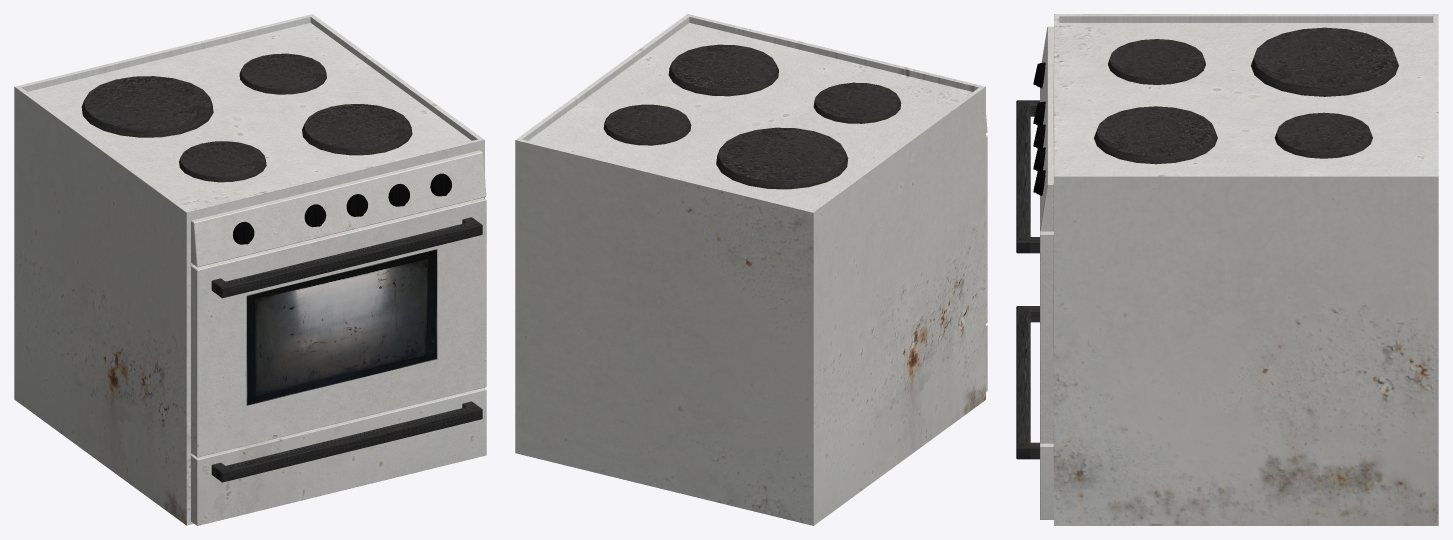
The model's file is fogao.fbx.
3 views of the same model, side by side, from view 1: azimuth 30°, elevation 25°; view 2: azimuth 150°, elevation 25°; view 3: azimuth 270°, elevation 25° (orthographic). The views are drawn at different scales.
Parts seen in each view (by area): view 1: superficie, polySurface4, polySurface2, polySurface3, pCylinder1, pCylinder3, pCube2, pCube3, pCylinder2, pCylinder4; view 2: superficie, pCylinder1, pCylinder3, pCylinder2, pCylinder4; view 3: superficie, pCylinder1, pCylinder3, pCylinder2, pCylinder4, polySurface4, pCube3, pCube2, polySurface3, polySurface2.
Part boxes in pixels (<box>): superficie: <box>14,14,484,525</box>; polySurface4: <box>191,197,486,457</box>; polySurface2: <box>191,387,486,525</box>; polySurface3: <box>191,150,486,267</box>; pCylinder1: <box>81,76,213,137</box>; pCylinder3: <box>302,104,412,155</box>; pCube2: <box>211,217,482,298</box>; pCube3: <box>211,401,482,482</box>; pCylinder2: <box>179,141,266,182</box>; pCylinder4: <box>239,53,326,94</box>; superficie: <box>515,14,985,525</box>; pCylinder1: <box>716,127,848,189</box>; pCylinder3: <box>668,44,778,96</box>; pCylinder2: <box>813,82,901,123</box>; pCylinder4: <box>603,104,691,145</box>; superficie: <box>1054,14,1438,525</box>; pCylinder1: <box>1251,27,1398,96</box>; pCylinder3: <box>1094,106,1217,164</box>; pCylinder2: <box>1108,39,1205,84</box>; pCylinder4: <box>1274,112,1372,158</box>; polySurface4: <box>1040,231,1053,443</box>; pCube3: <box>1016,306,1039,459</box>; pCube2: <box>1016,100,1039,253</box>; polySurface3: <box>1040,26,1053,231</box>; polySurface2: <box>1040,443,1053,519</box>.
Bounding box in the file's own units: 4 × 4.02 × 4.39.
